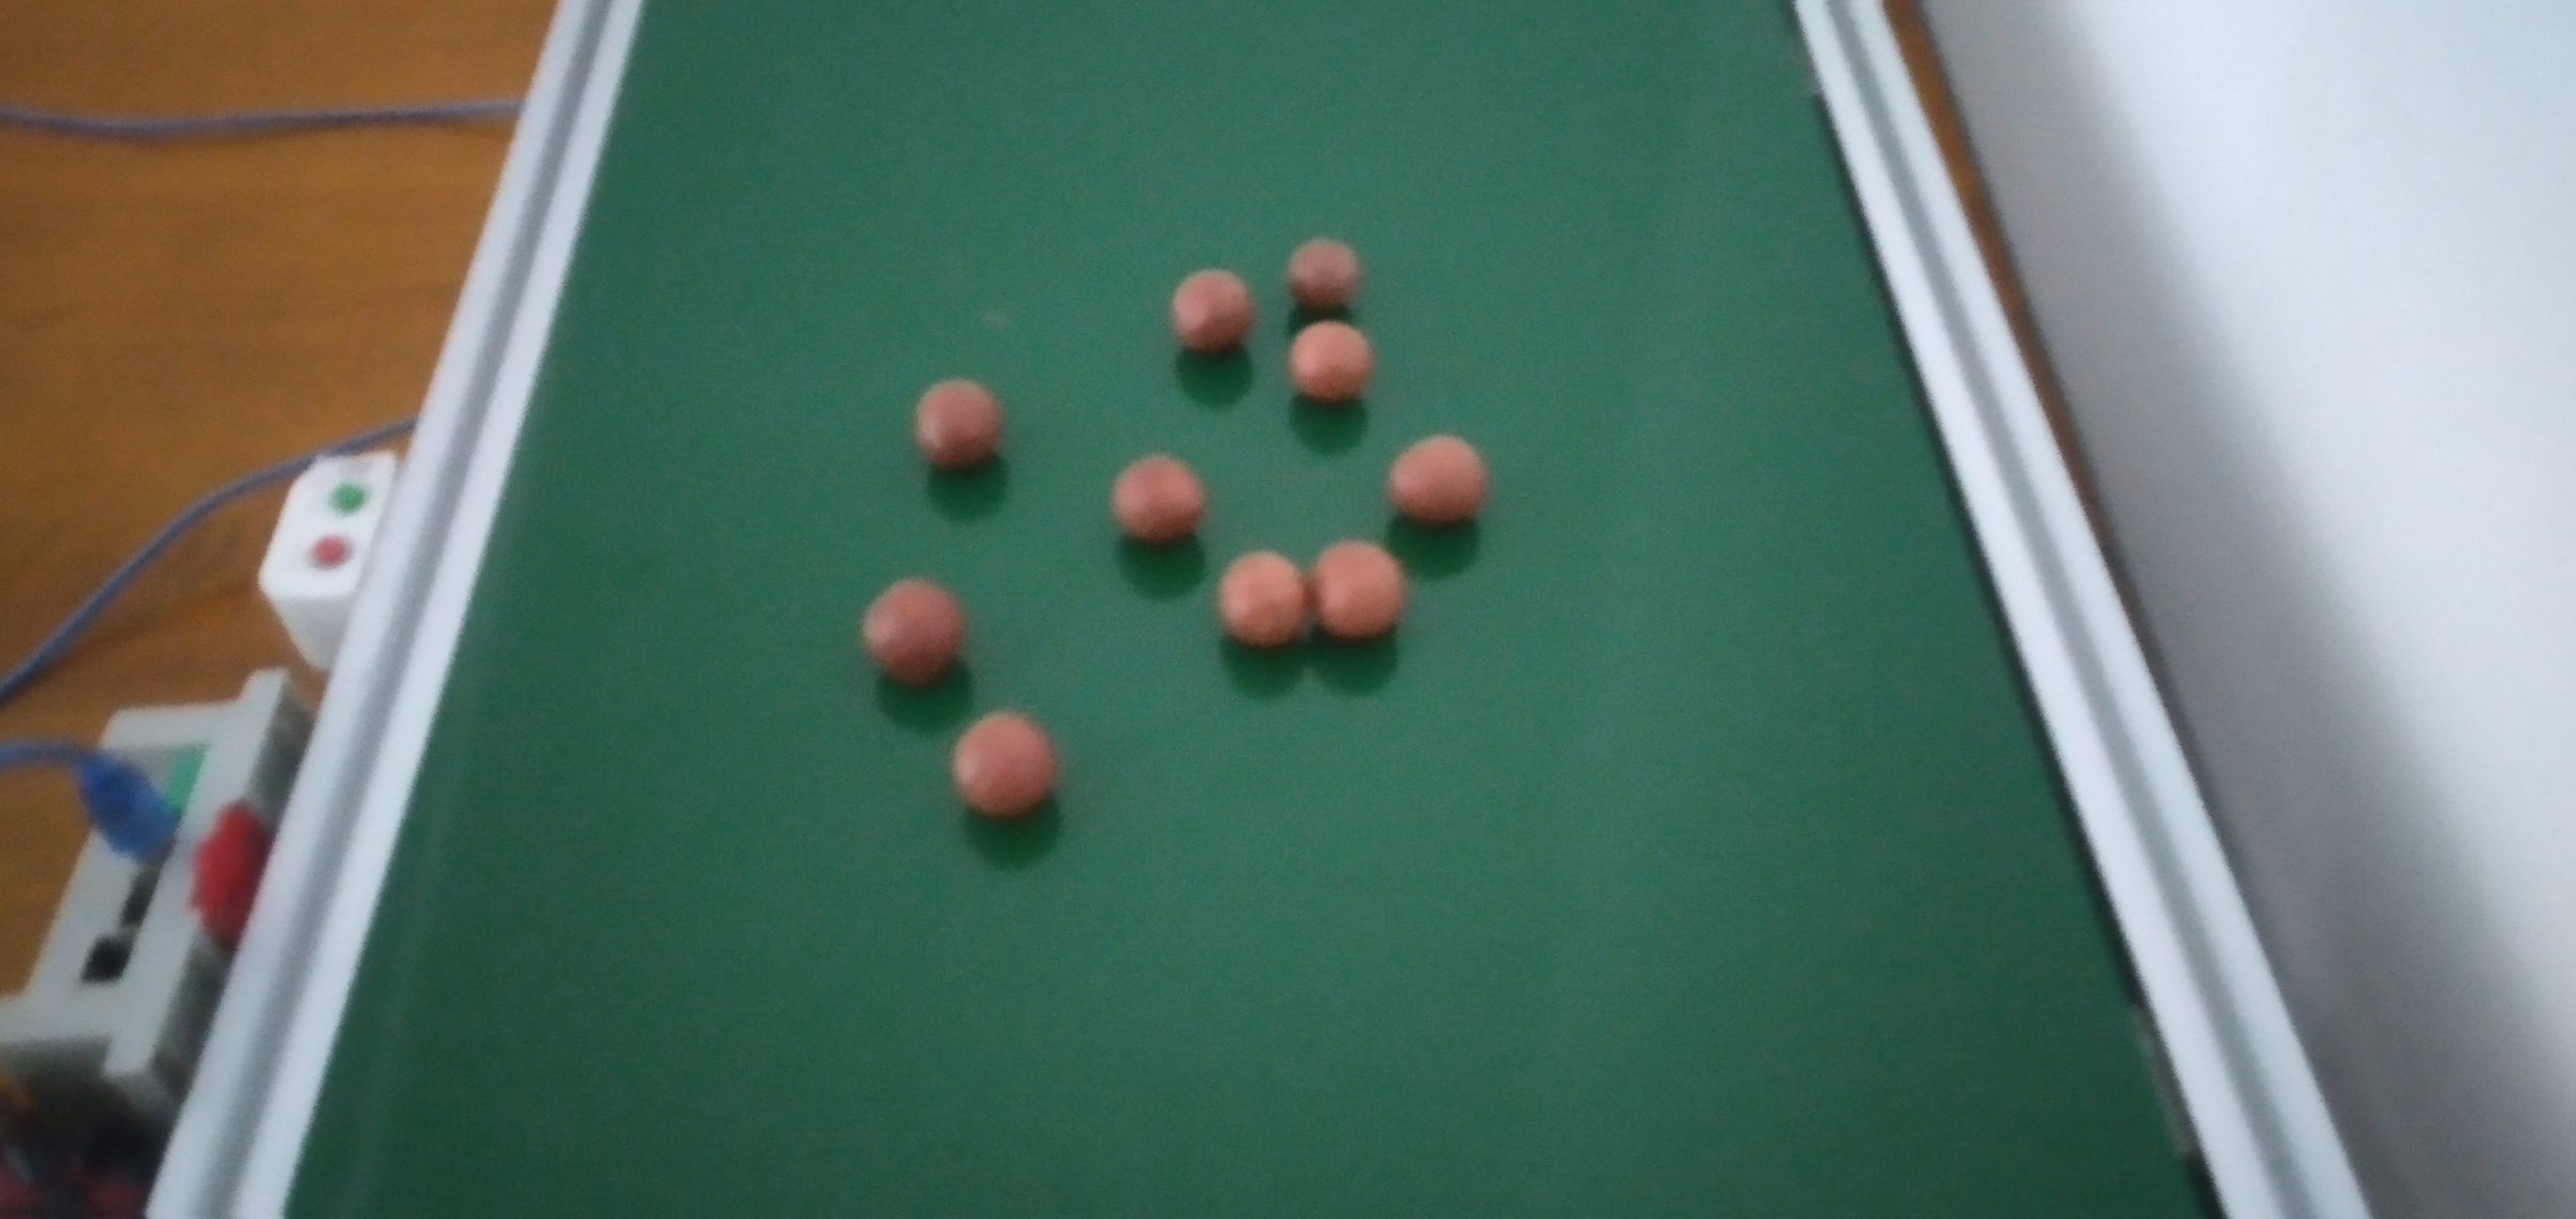mac: (858, 580, 961, 685), (956, 715, 1053, 816), (1306, 539, 1401, 637), (1212, 552, 1306, 651), (1388, 437, 1482, 531), (1112, 453, 1204, 542), (912, 378, 1000, 468), (1168, 266, 1250, 352), (1285, 322, 1372, 402), (1286, 237, 1360, 310)
